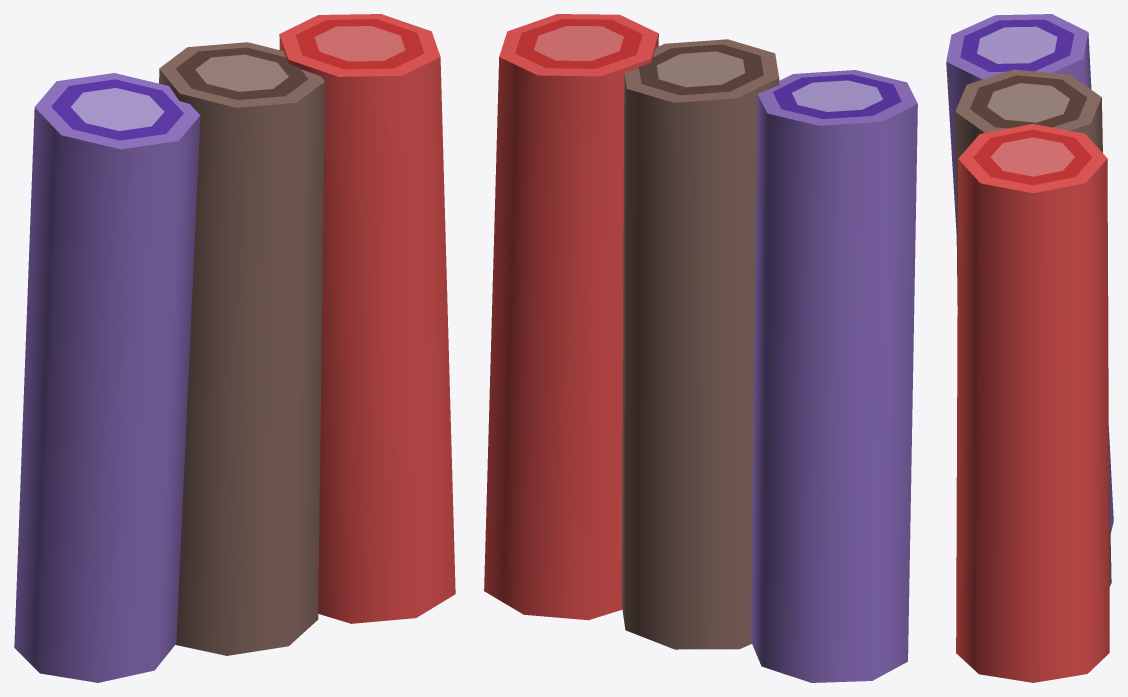
File: fabric-roll-b.glb
3 views of the same model, side by side, from view 1: azimuth 30°, elevation 25°; view 2: azimuth 150°, elevation 25°; view 3: azimuth 270°, elevation 25° (orthographic). The views are drawn at different scales.
Visible parts, largest first — view 1: shop_033; view 2: shop_033; view 3: shop_033.
Boxes of the visible parts, x1=… form: shop_033: x1=14, y1=14, x2=455, y2=682; shop_033: x1=484, y1=14, x2=917, y2=682; shop_033: x1=946, y1=14, x2=1113, y2=682.
Bounding box in the file's own units: 0.303 × 0.3913 × 0.1187.
1 material, 1 textured.
